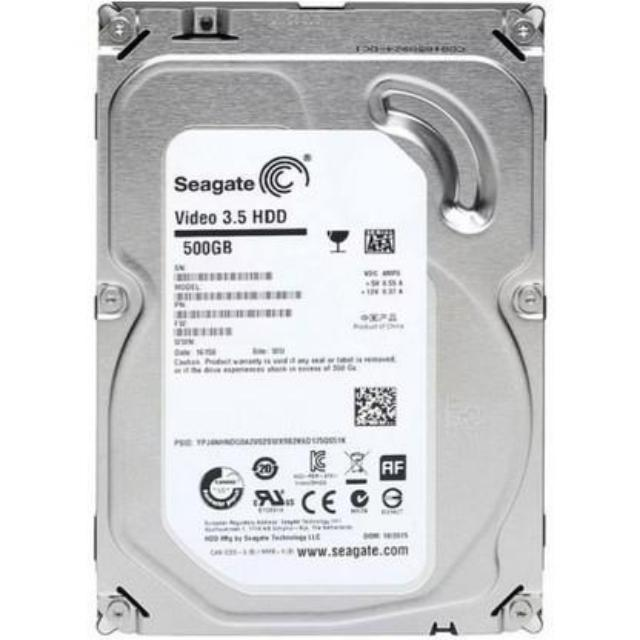DISK: (94, 2, 546, 640)
